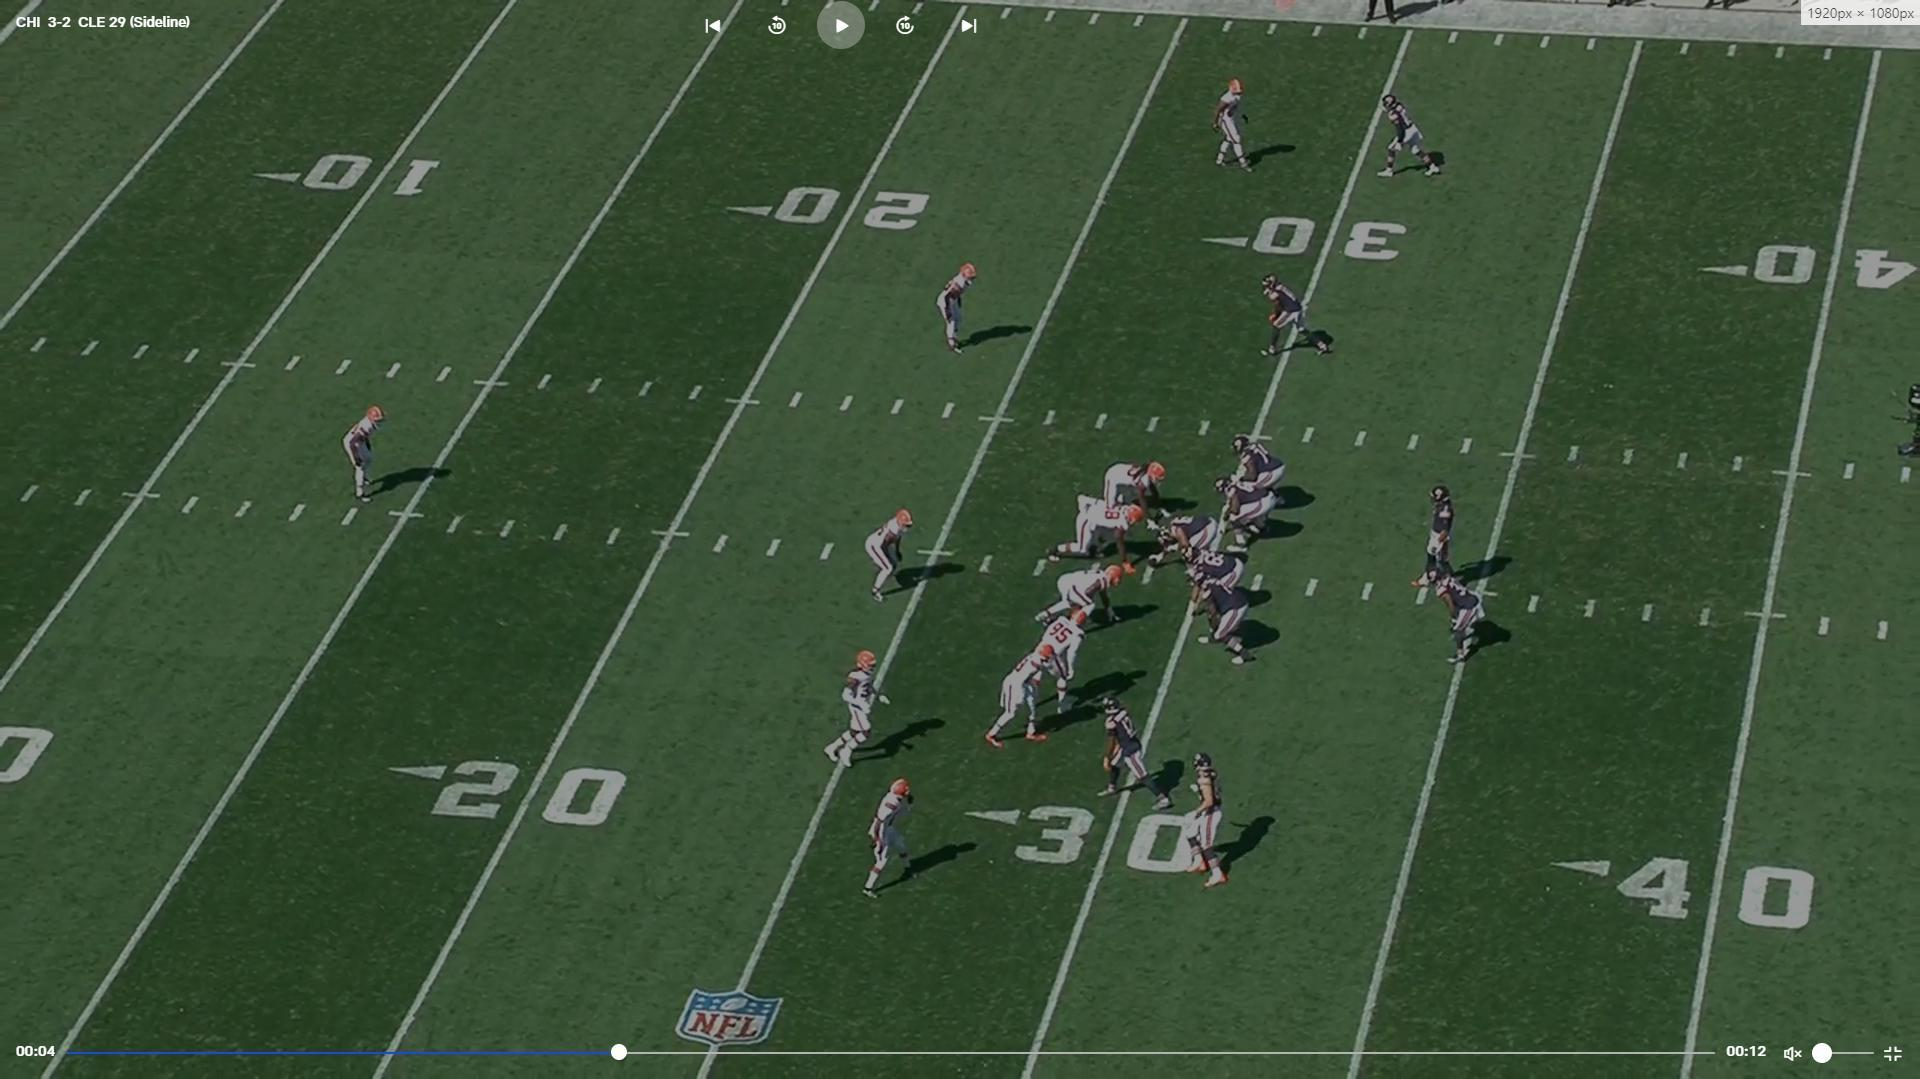player: (1095, 696, 1173, 810), (979, 643, 1053, 755), (1184, 751, 1238, 898), (824, 648, 888, 770), (1254, 270, 1336, 361), (1029, 605, 1093, 719), (1044, 503, 1151, 571), (860, 779, 918, 902), (1421, 565, 1489, 667), (1375, 89, 1445, 182), (1037, 561, 1130, 630), (1188, 573, 1251, 672), (1140, 509, 1220, 583), (1418, 481, 1464, 594), (865, 506, 917, 603), (1218, 473, 1277, 554), (936, 262, 984, 358), (1233, 431, 1291, 510), (1098, 460, 1173, 521), (1215, 76, 1261, 175), (342, 403, 386, 505), (1183, 547, 1249, 609)
ref: (1359, 0, 1402, 28)
